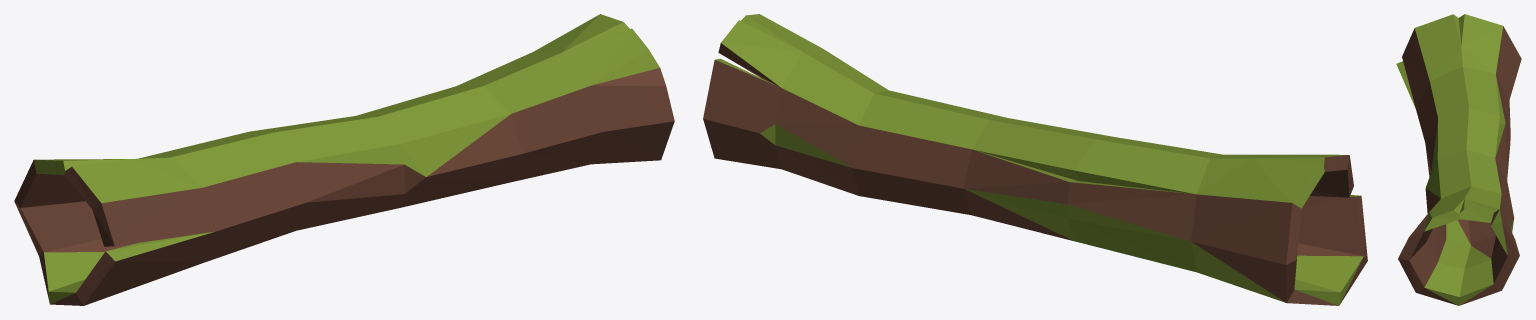
File: Tree_Trunk_2_Moss.fbx
3 renders of one model, left to right at view 1: azimuth 30°, elevation 25°; view 2: azimuth 150°, elevation 25°; view 3: azimuth 270°, elevation 25°, orthographic. The views are drawn at different scales.
Parts seen in each view (by area): view 1: Tree_Trunk_2_Moss; view 2: Tree_Trunk_2_Moss; view 3: Tree_Trunk_2_Moss.
Boxes of the visible parts, x1,y1,x2,y2 form: Tree_Trunk_2_Moss: (14,14,674,305); Tree_Trunk_2_Moss: (703,14,1367,305); Tree_Trunk_2_Moss: (1396,14,1521,305).
Bounding box in the file's own units: 3.13 × 0.7052 × 0.8022.
